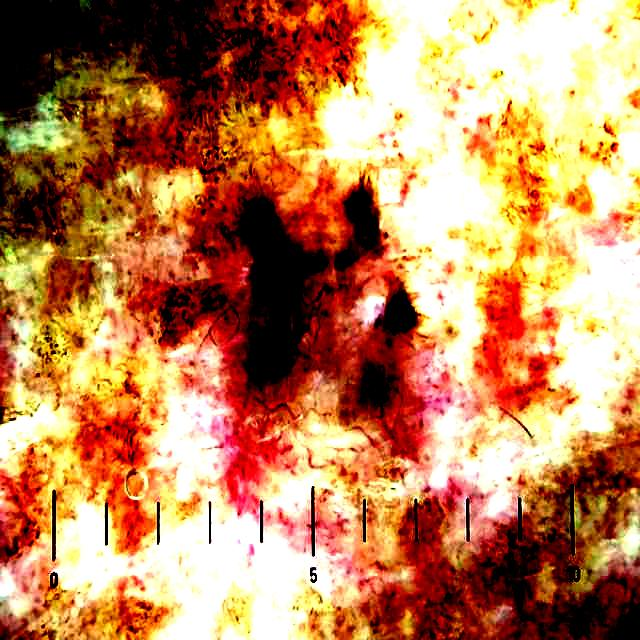BCC: (196, 151, 480, 453)
